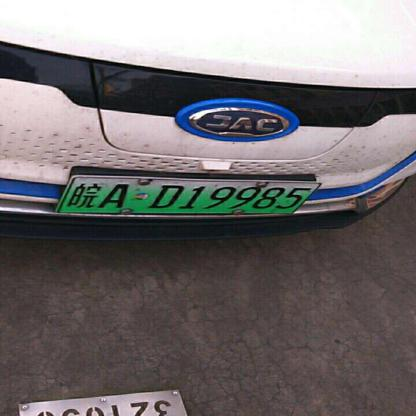lp: (58, 178, 320, 213)
